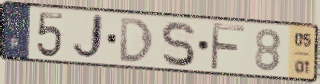5: (35, 10, 66, 58)
8: (253, 27, 283, 74)
D: (118, 16, 155, 64)
F: (208, 21, 248, 72)
J: (70, 12, 106, 63)
S: (158, 19, 197, 68)
